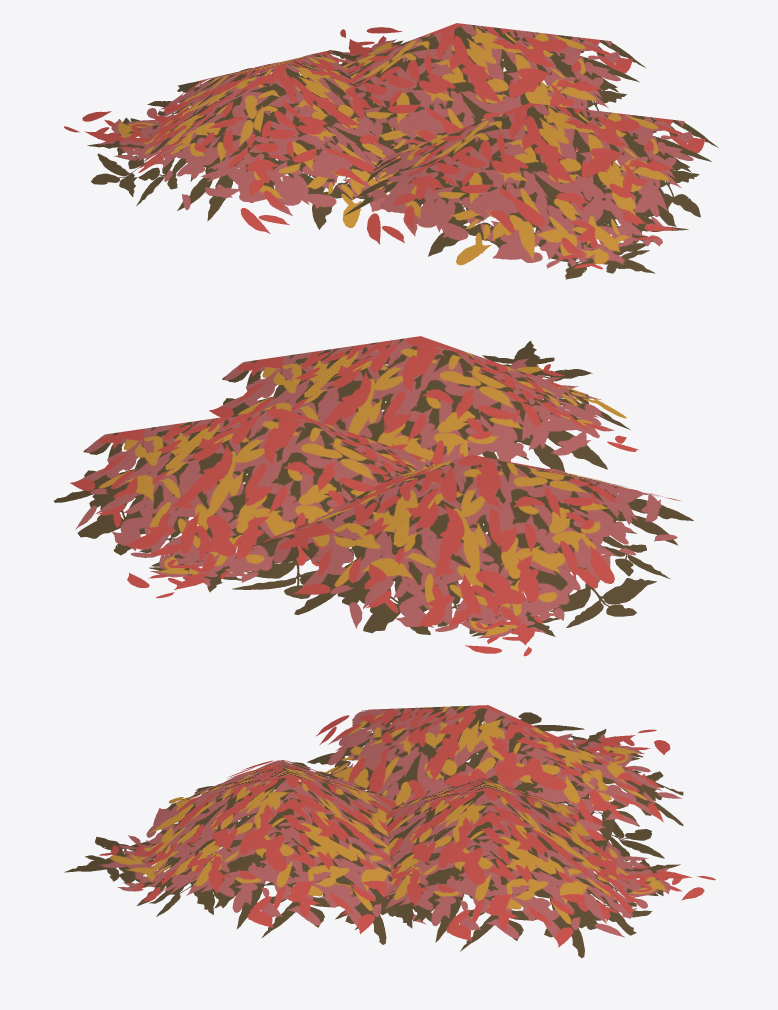
The model's file is red_bush.fbx.
3 views of the same model, one above another, from view 1: azimuth 30°, elevation 25°; view 2: azimuth 150°, elevation 25°; view 3: azimuth 270°, elevation 25° (orthographic). The views are drawn at different scales.
Parts seen in each view (by area): view 1: pPlane124; view 2: pPlane124; view 3: pPlane124.
Boxes of the visible parts, x1,y1,x2,y2 form: pPlane124: [64, 23, 718, 279]; pPlane124: [54, 336, 693, 656]; pPlane124: [64, 705, 715, 958].
Bounding box in the file's own units: 1.72 × 0.254 × 1.92.
